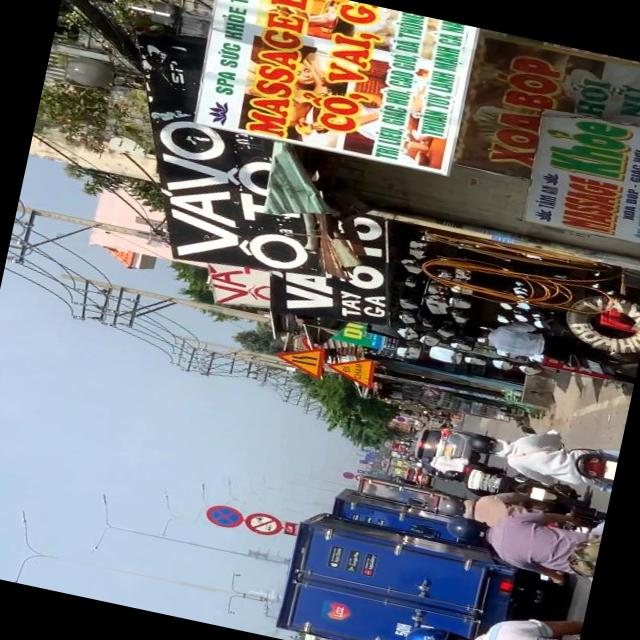P-130: (203, 502, 245, 530)
W-203c: (274, 338, 326, 378)
W-245a: (323, 348, 377, 389)
